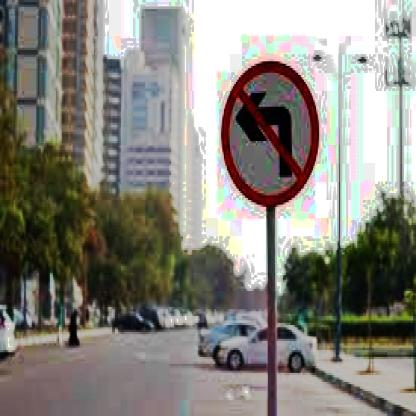No left turn: (217, 60, 318, 209)
